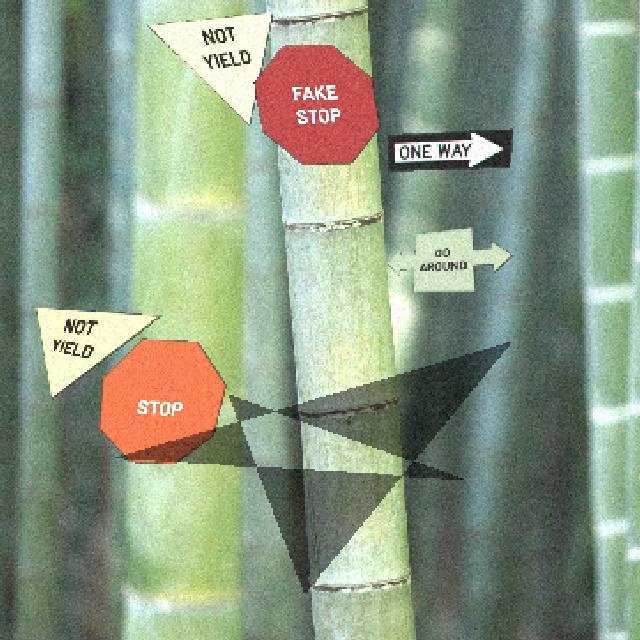FAKE_STOP: (252, 42, 379, 164)
GO_AROUND: (385, 225, 512, 291)
NOT_YIELD: (145, 10, 272, 125), (34, 305, 161, 398)
ONE_WAY_ right: (385, 127, 512, 170)
STOP: (98, 337, 225, 463)
